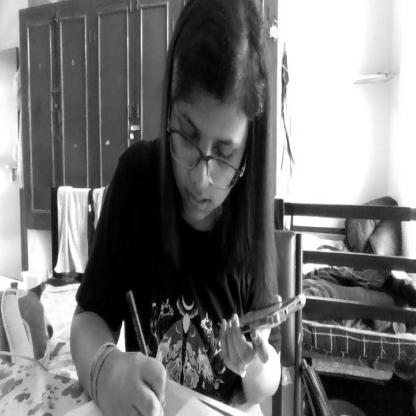Normal: (166, 0, 263, 234)
